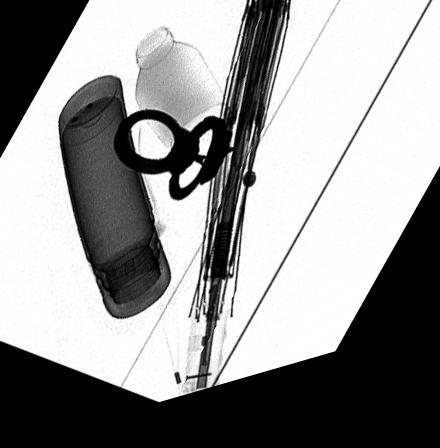HandCuffs: (110, 117, 235, 210)
